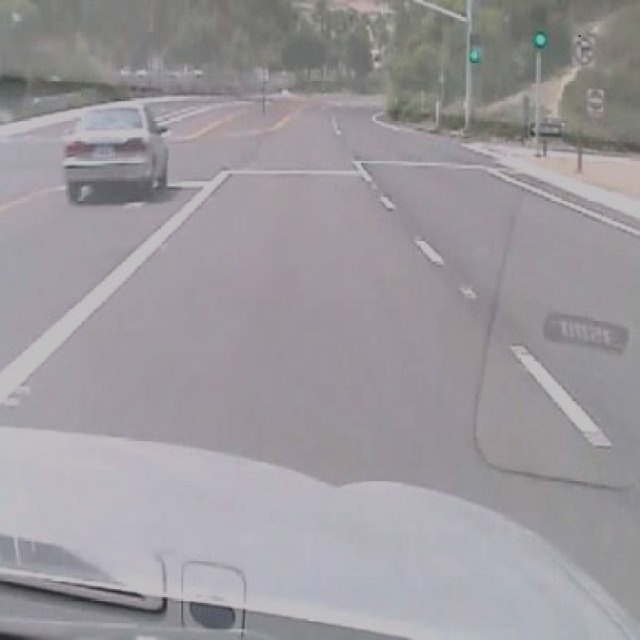noRightTurn: (570, 32, 596, 66)
